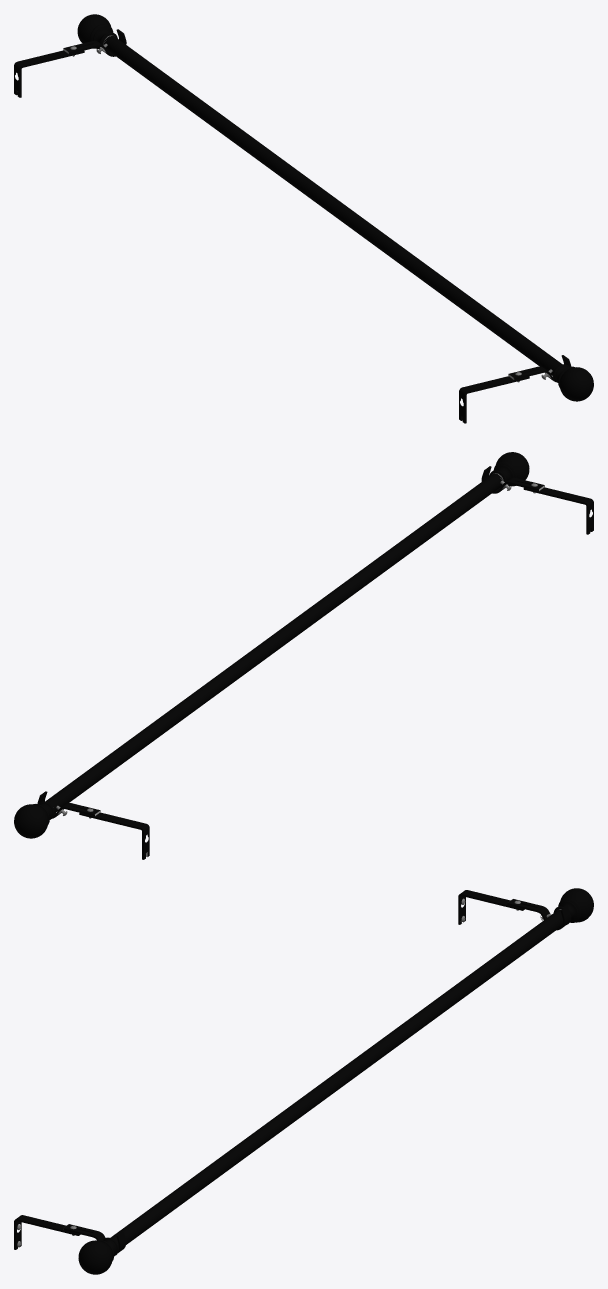
Rendered from objs_.glb.
3 renders of one model, top to bottom at view 1: azimuth 30°, elevation 25°; view 2: azimuth 150°, elevation 25°; view 3: azimuth 330°, elevation 25°, orthographic.
Visible parts, largest first — view 1: Steel Curtain Rod; view 2: Steel Curtain Rod; view 3: Steel Curtain Rod.
Part boxes in pixels (x1,y1,x2,y2): Steel Curtain Rod: [14, 14, 593, 423]; Steel Curtain Rod: [14, 452, 593, 859]; Steel Curtain Rod: [14, 888, 593, 1274].
Size of the model in its own units: 0.2771 by 0.1004 by 2.14.
Materials: 1 (1 with a texture image).
